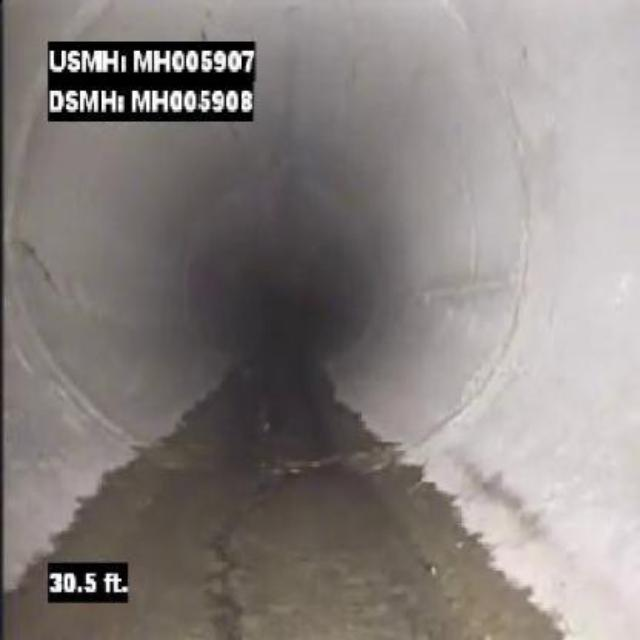Crack: (197, 515, 260, 638)
